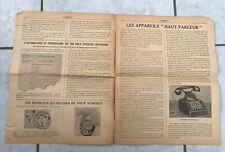paper: (6, 11, 221, 144)
